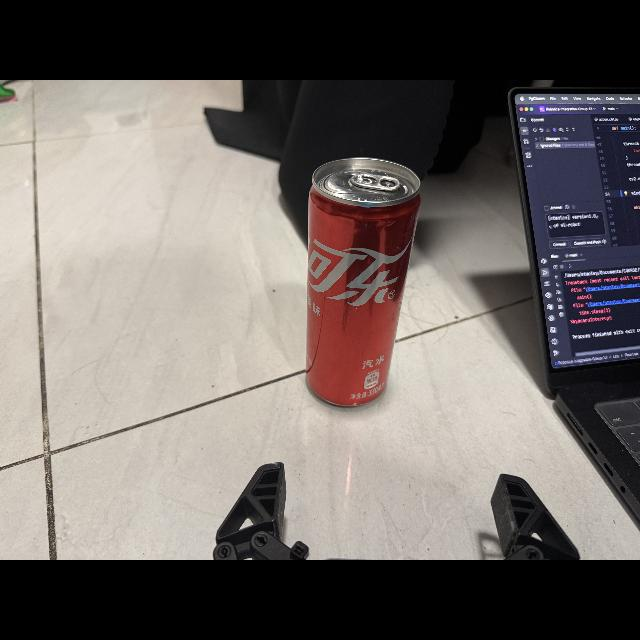Cola: (298, 150, 428, 414)
